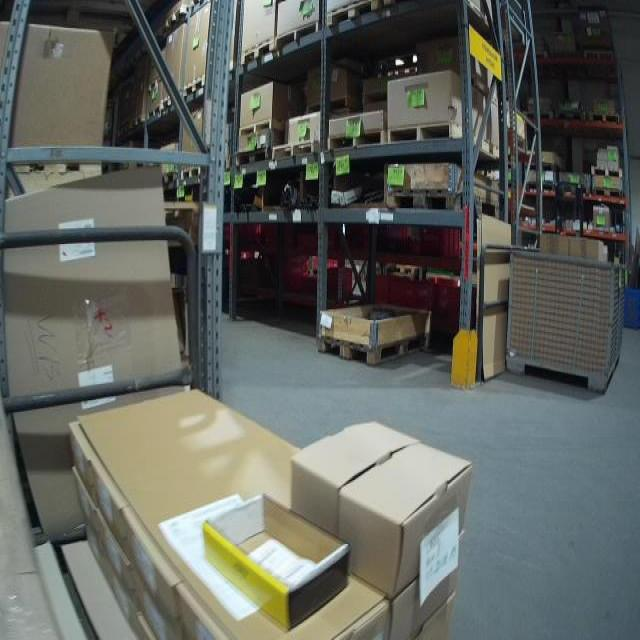pallet: (392, 110, 555, 275), (319, 329, 432, 367), (388, 123, 499, 160), (387, 187, 501, 220), (326, 0, 384, 28), (275, 19, 321, 52), (328, 129, 388, 152), (271, 139, 320, 162), (239, 117, 284, 140), (241, 38, 276, 66), (236, 148, 269, 167), (166, 5, 190, 30), (183, 74, 205, 97), (590, 166, 624, 180), (591, 185, 625, 199), (361, 89, 387, 107), (590, 110, 621, 124), (584, 50, 616, 62), (181, 164, 200, 182), (524, 163, 558, 172), (525, 182, 556, 191), (130, 115, 146, 129), (161, 172, 178, 185), (147, 105, 161, 120), (160, 96, 172, 111)
stillage: (503, 252, 625, 397)
